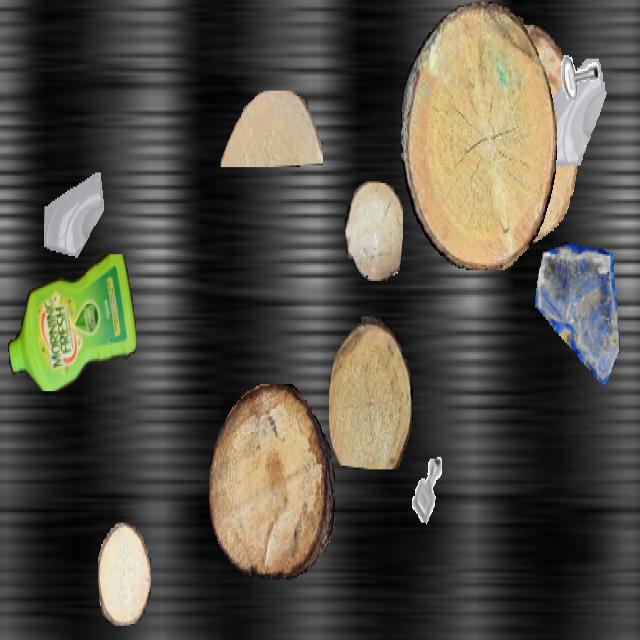glass: (535, 242, 619, 391), (535, 58, 611, 194), (44, 171, 106, 281)
metal: (550, 2, 604, 98), (402, 444, 454, 537)
plastic: (8, 255, 136, 390)
wood: (401, 2, 557, 268), (461, 25, 579, 245), (209, 384, 335, 580), (329, 316, 413, 469), (220, 91, 322, 165), (345, 181, 403, 281), (98, 522, 150, 626)
